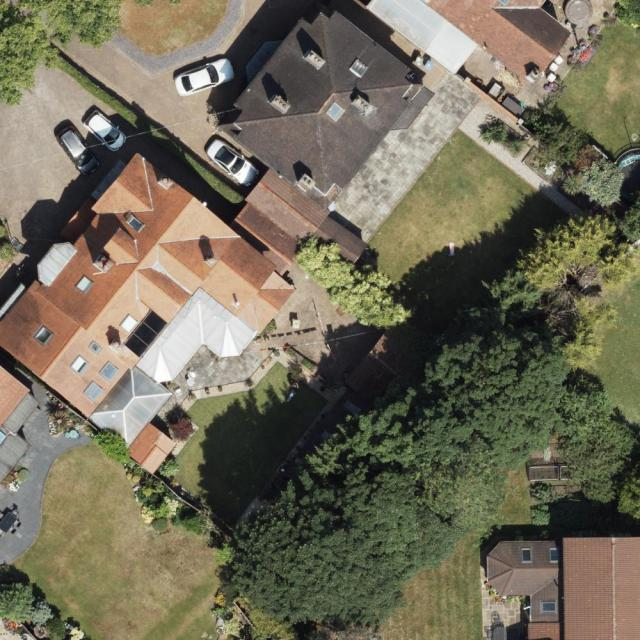roof: (0, 153, 297, 474), (210, 0, 439, 269), (365, 0, 573, 83), (486, 536, 640, 640), (0, 362, 34, 430)
skylight: (122, 209, 145, 237), (33, 323, 57, 346), (324, 101, 347, 125), (72, 271, 94, 295), (82, 378, 104, 402), (97, 360, 118, 382), (117, 312, 138, 331), (67, 354, 88, 371), (538, 600, 559, 614), (548, 545, 562, 565), (521, 546, 532, 565), (89, 341, 101, 353)
solar: (126, 311, 169, 357)
